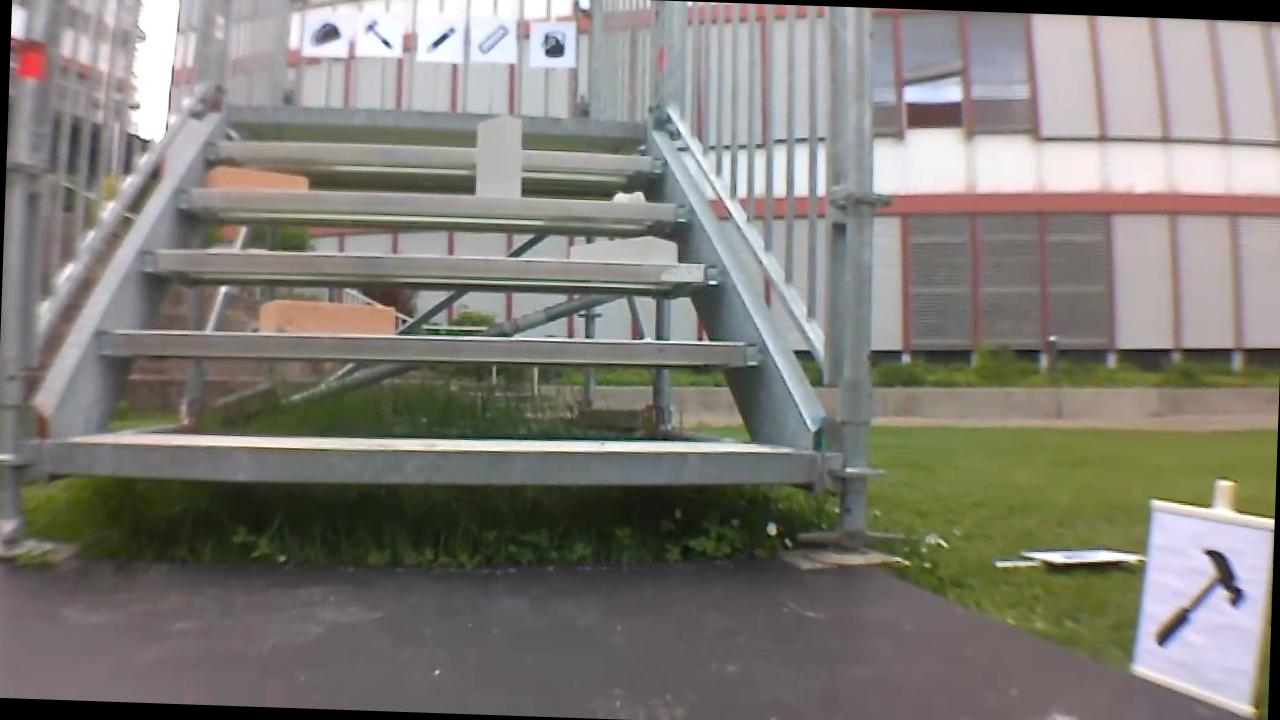brick: (258, 298, 395, 335), (475, 113, 523, 196), (569, 232, 677, 264), (201, 165, 305, 191)
bucket: (532, 24, 568, 62)
edge: (47, 426, 811, 498), (98, 320, 759, 372), (141, 242, 726, 287), (176, 185, 692, 221), (205, 137, 662, 170), (227, 102, 646, 135)
hammer: (1147, 538, 1256, 660), (357, 12, 396, 52)
pencil: (416, 21, 459, 56)
ruler: (470, 19, 511, 57)
steps: (43, 90, 833, 512)
taco: (305, 16, 345, 50)
